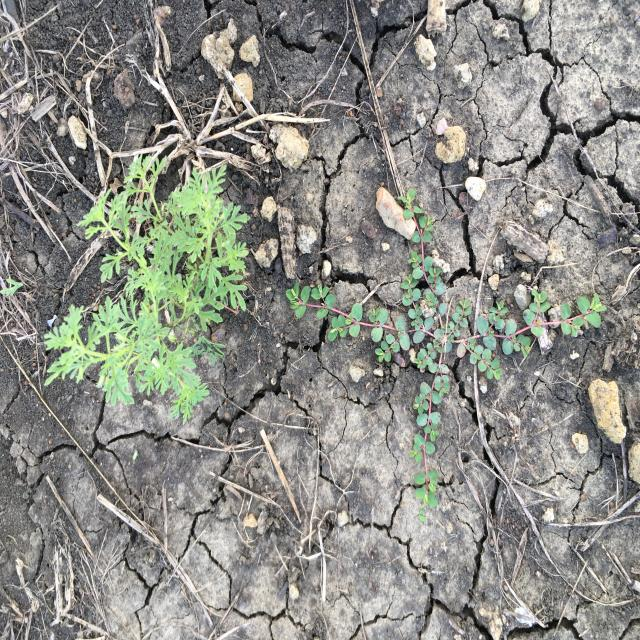Ragweed: (41, 149, 251, 425)
SpottedSpurge: (284, 186, 609, 513)
